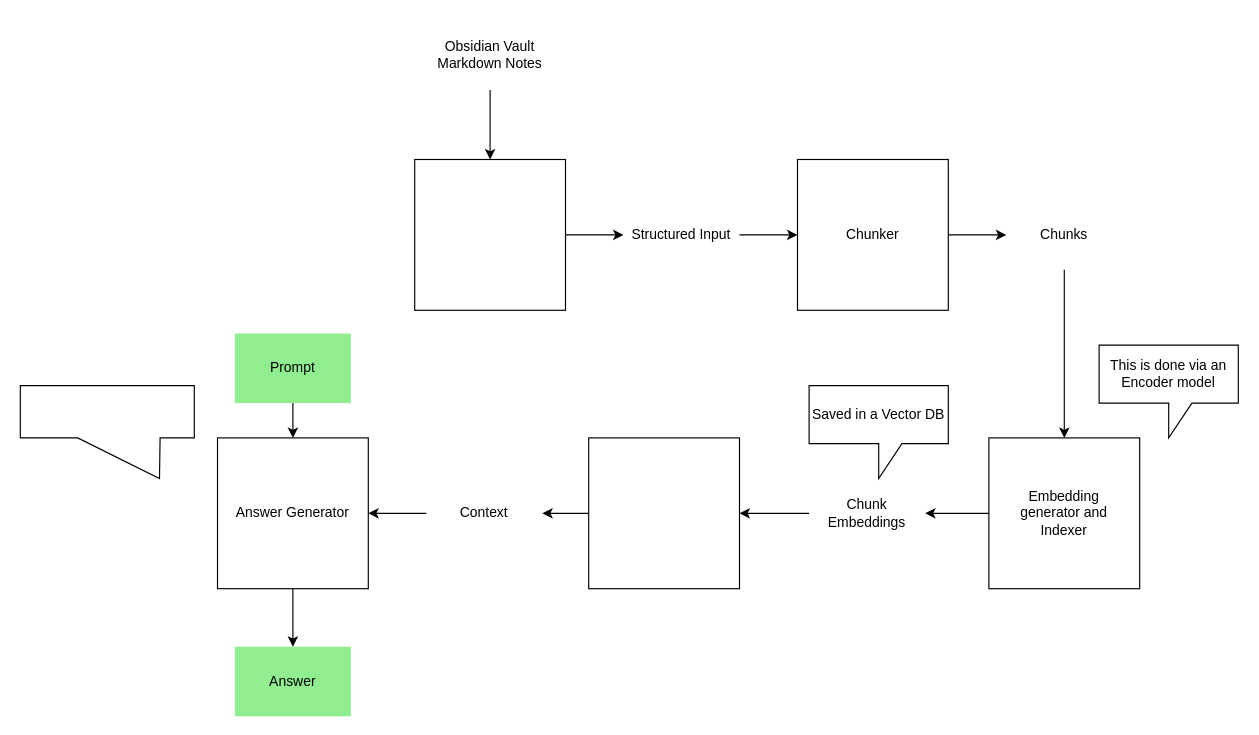
This 1259x735 diagram has some shape labels left out. Here are the shapes that lost their labels. From the top down, the box of each, then its label:
(414, 158, 566, 310): Obsidian Markdown Processor
(19, 385, 194, 478): This is done via an LLM
(588, 437, 740, 589): Context Retriever
